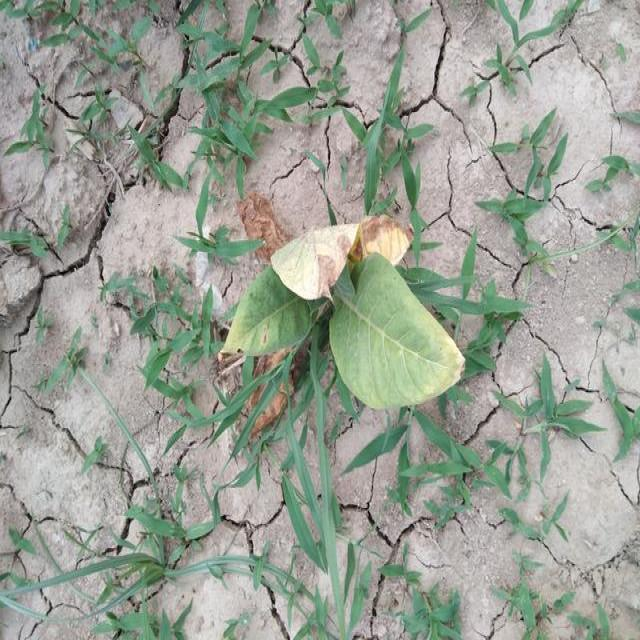crop: (234, 196, 462, 428)
